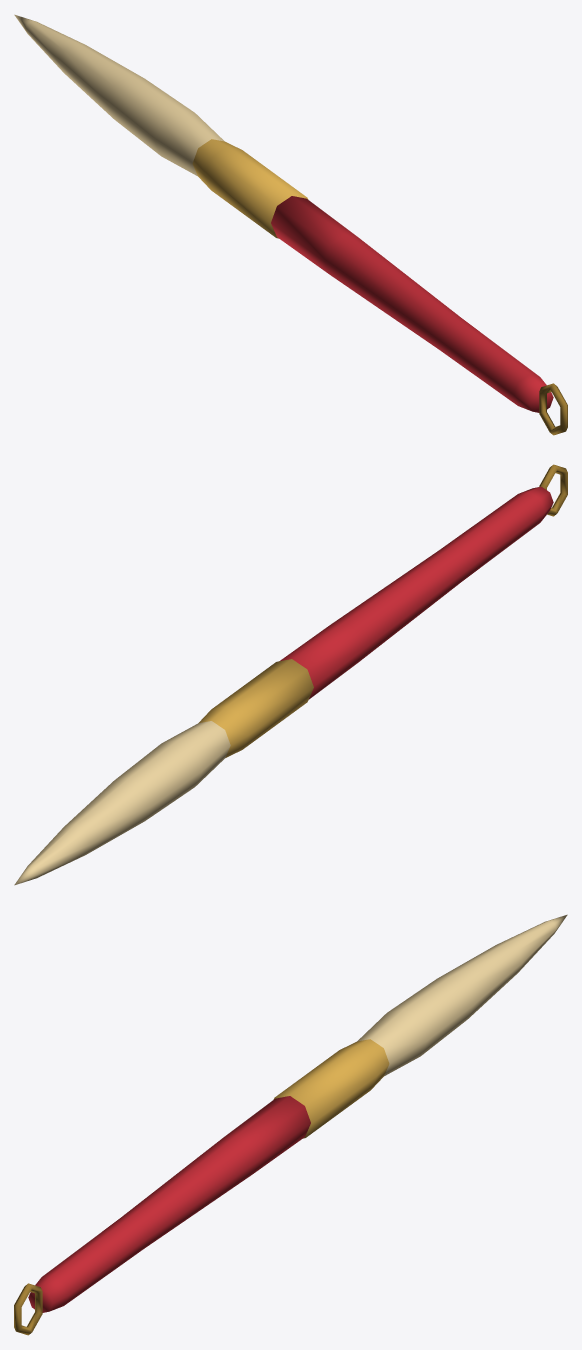
Rendered from brush.glb.
3 renders of one model, top to bottom at view 1: azimuth 30°, elevation 25°; view 2: azimuth 150°, elevation 25°; view 3: azimuth 330°, elevation 25°, orthographic.
Parts seen in each view (by area): view 1: BrushMesh; view 2: BrushMesh; view 3: BrushMesh.
Part boxes in pixels (x1,y1,x2,y2): BrushMesh: (14, 14, 567, 435); BrushMesh: (14, 464, 567, 885); BrushMesh: (14, 914, 567, 1335).
Bounding box in the file's own units: 0.0136 × 0.0142 × 0.2721.
Materials: 2 (1 with a texture image).
